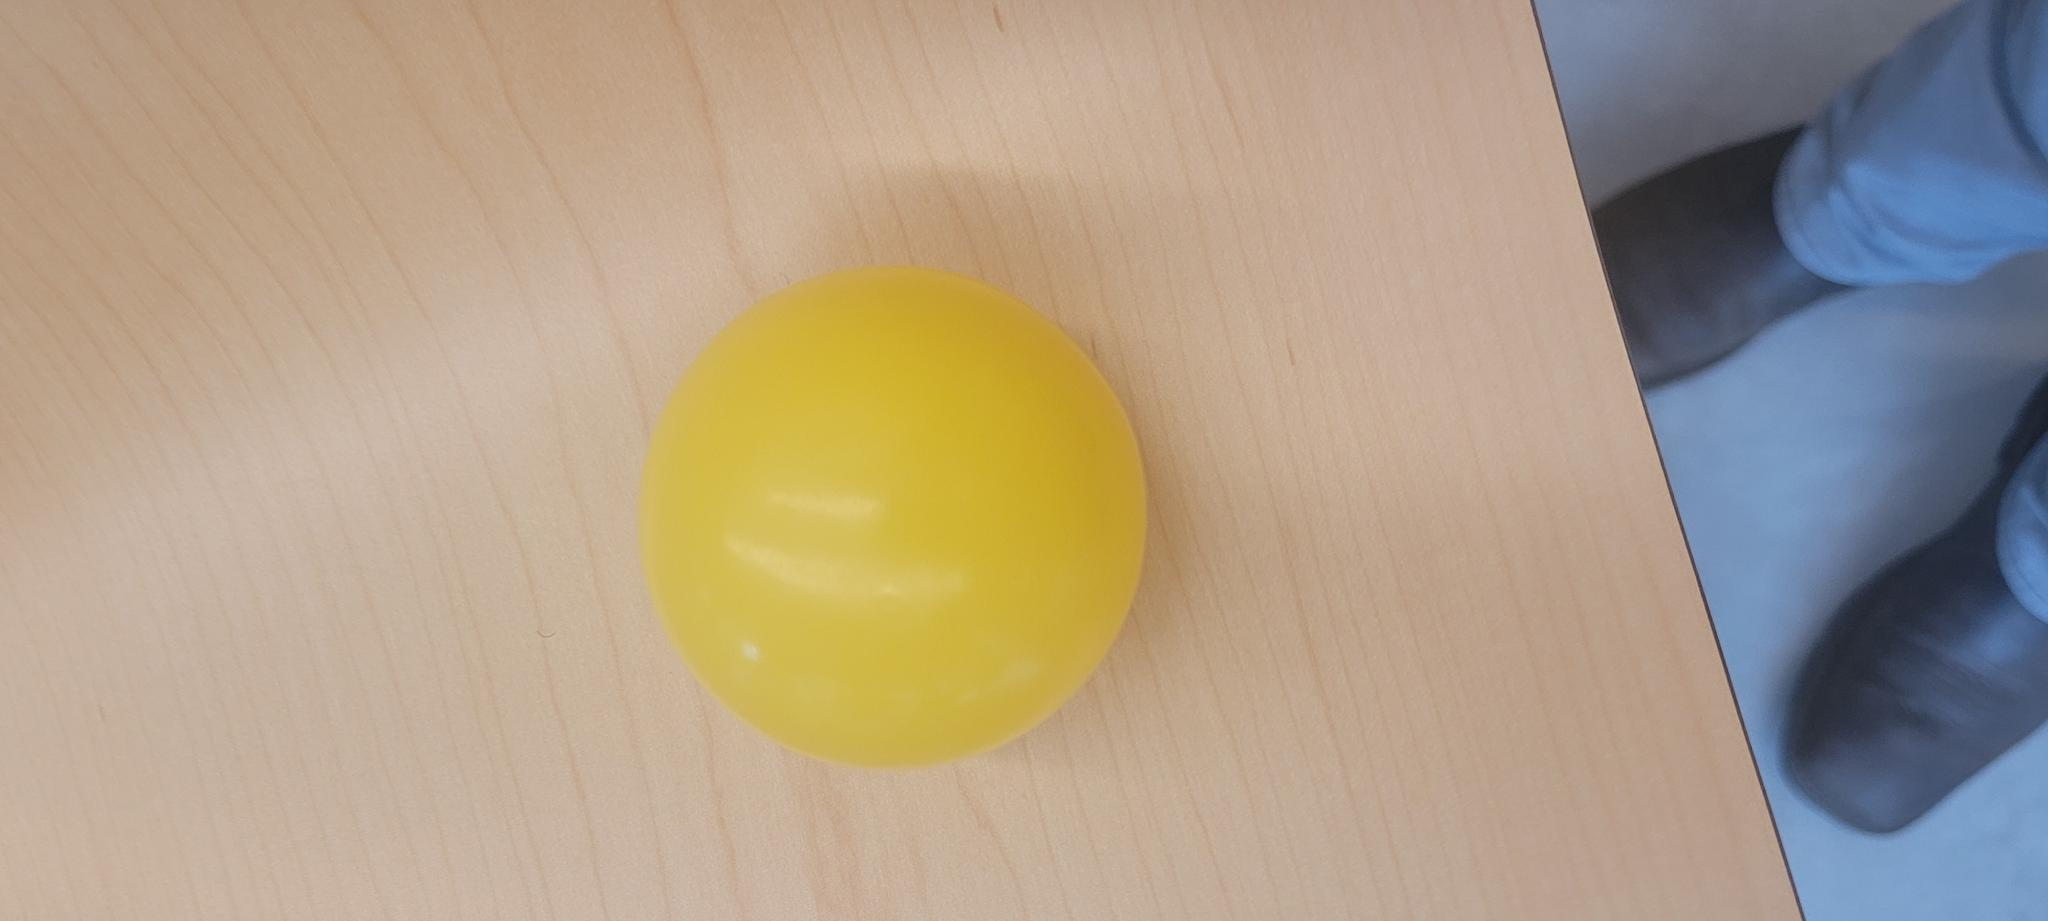Yellow-Ball: (152, 634, 652, 921)
